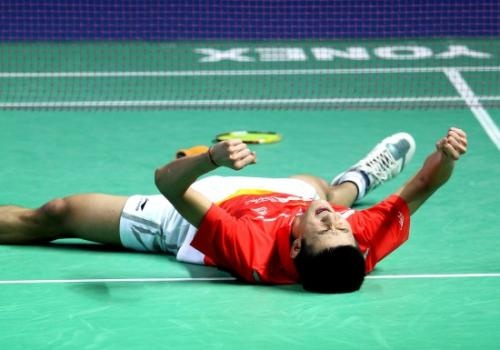falling: (1, 117, 488, 298)
